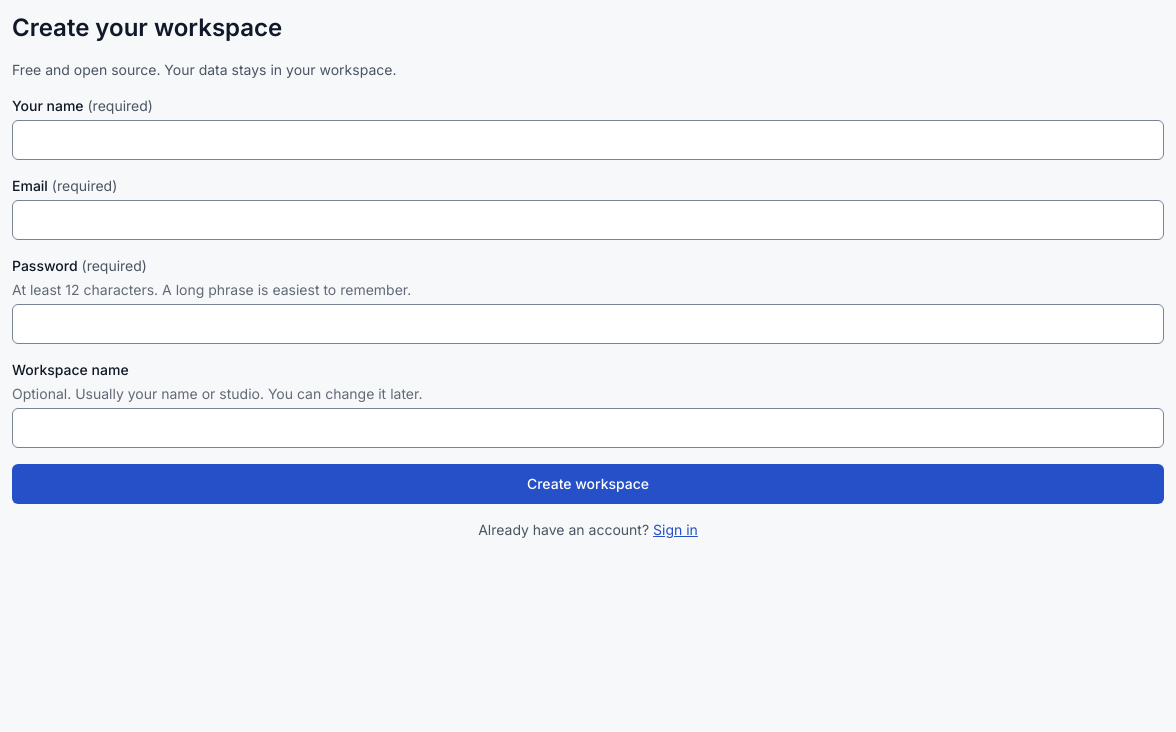
S-01 RegisterForm › AC-001.1 shows the 12-character password rule up front and enforces it
Check: the text "At least 12 characters" is shown, box x1=12 y1=281 x2=411 y2=298
Type "Riya" into the field labelled "Your name (required)" at (588, 140), box x1=12 y1=120 x2=1164 y2=160
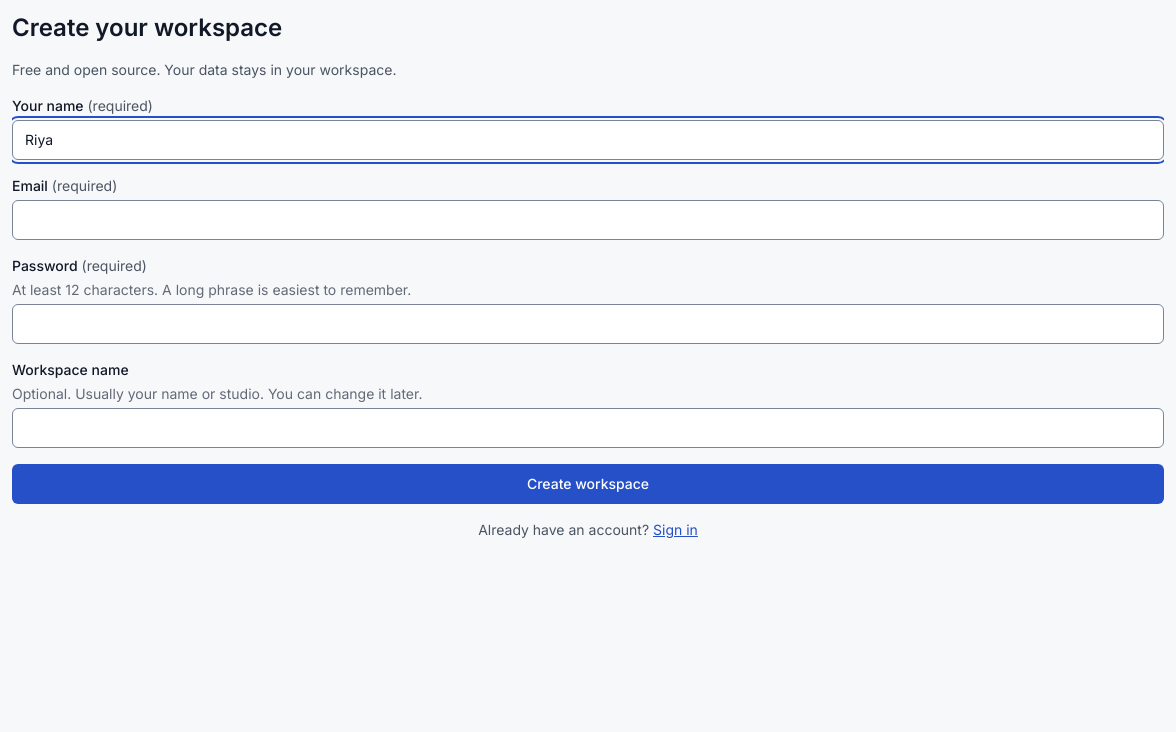
Type "riya@example.com" into the field labelled "Email (required)" at (588, 220), box x1=12 y1=200 x2=1164 y2=240
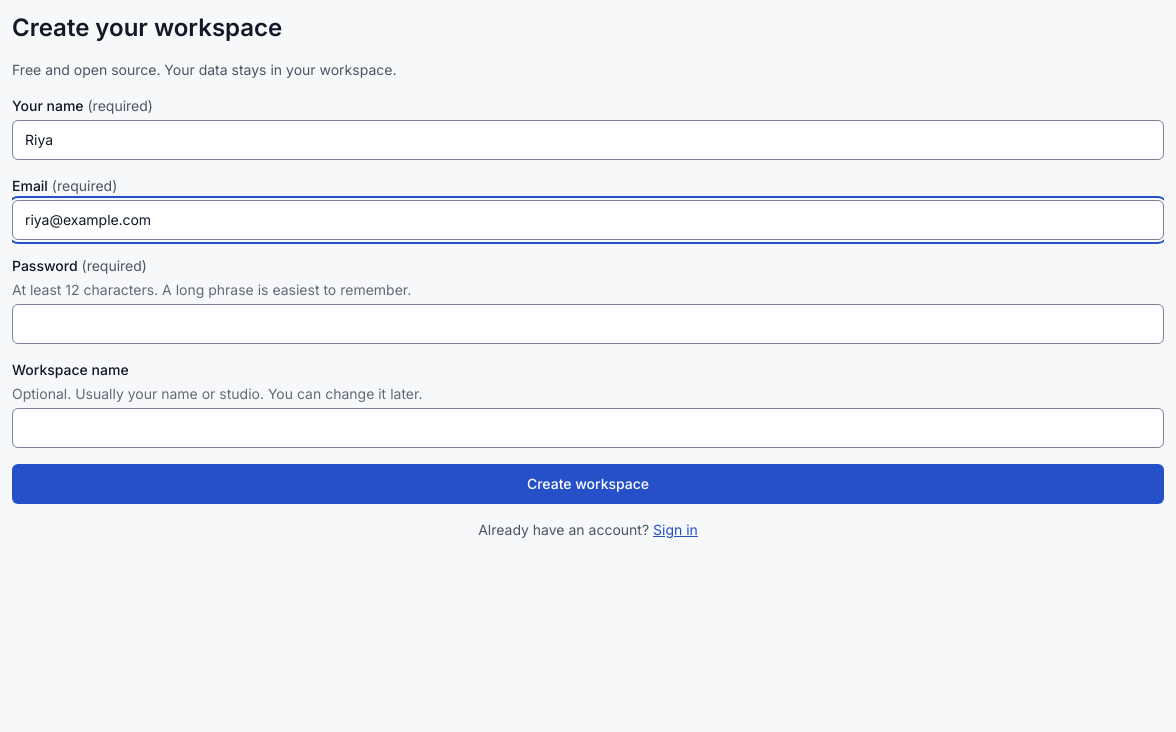
Type "short" into the password field labelled "Password (required)" at (588, 324), box x1=12 y1=304 x2=1164 y2=344
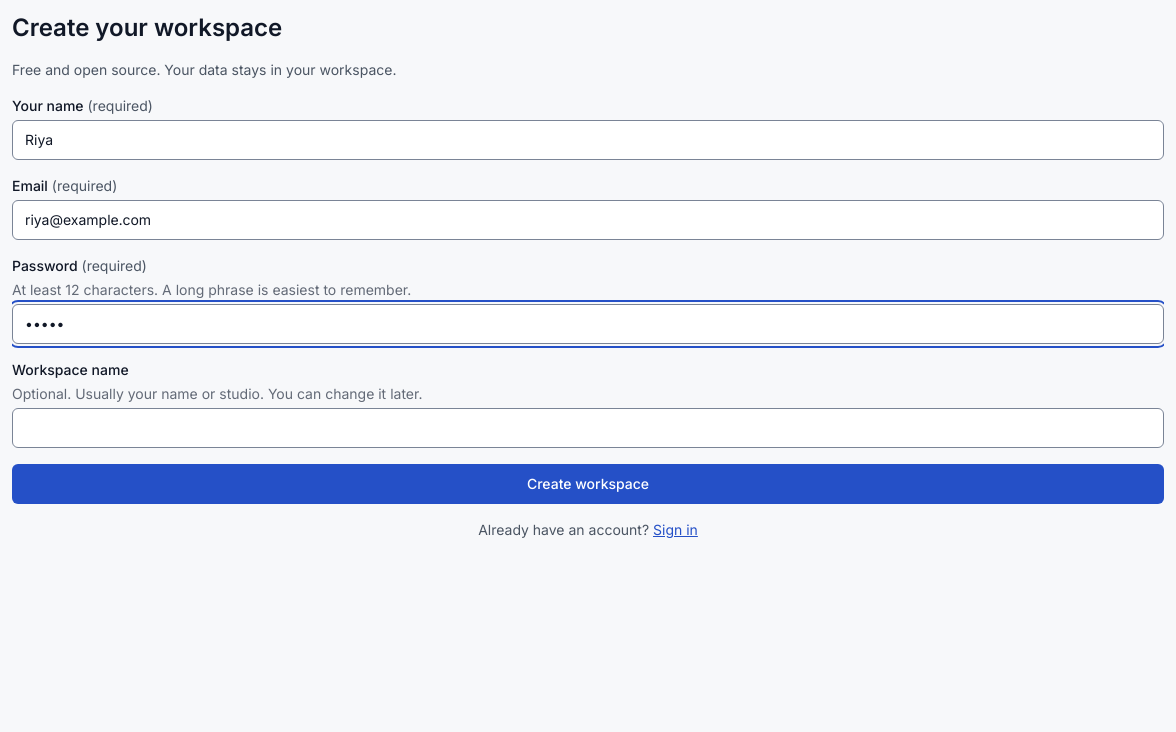
Click the button "Create workspace" at (588, 484), box x1=12 y1=464 x2=1164 y2=504
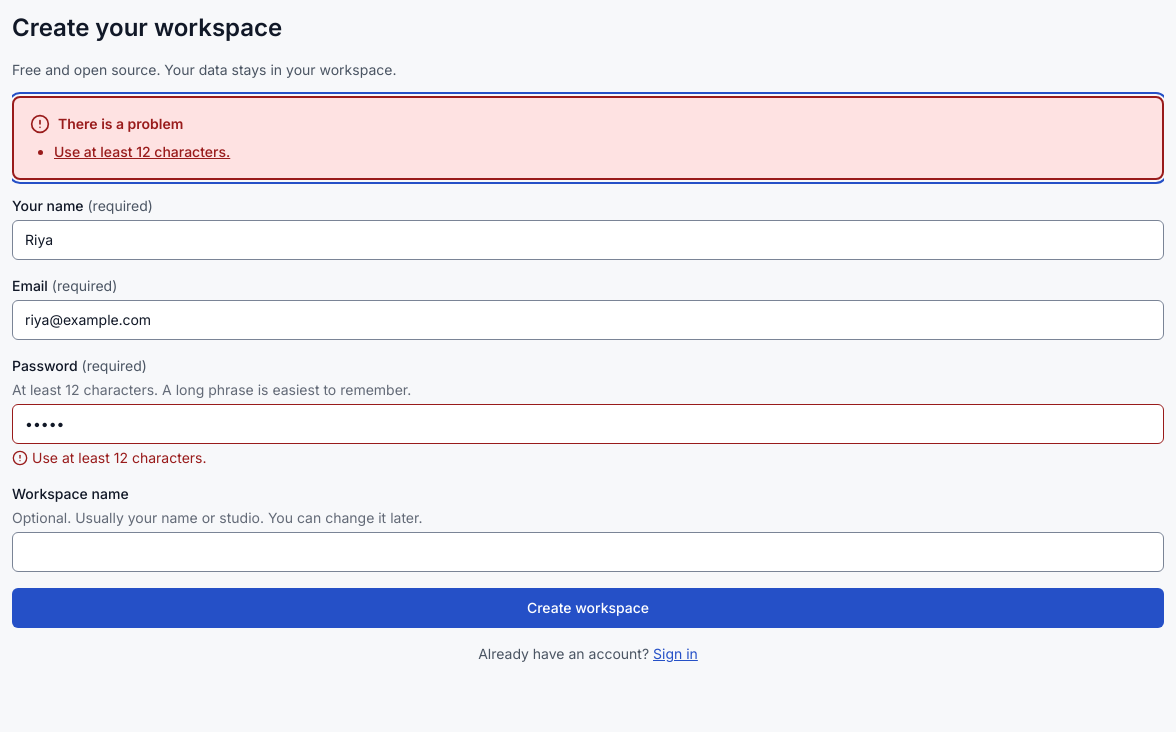
Check: the link "Use at least 12 characters." is shown, box x1=54 y1=143 x2=230 y2=160
